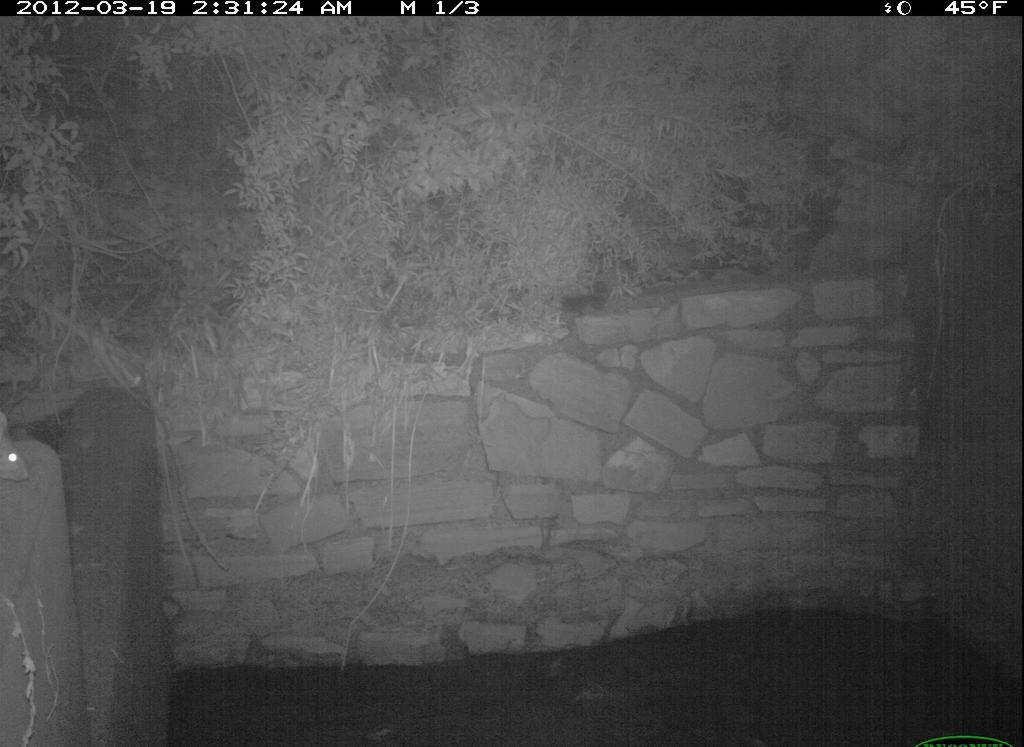rodent: (3, 410, 35, 491)
